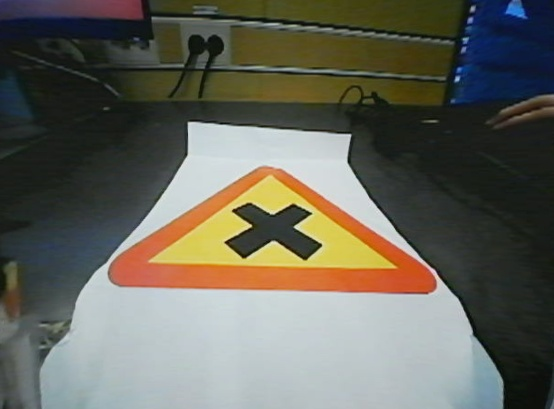junction: (107, 161, 456, 305)
